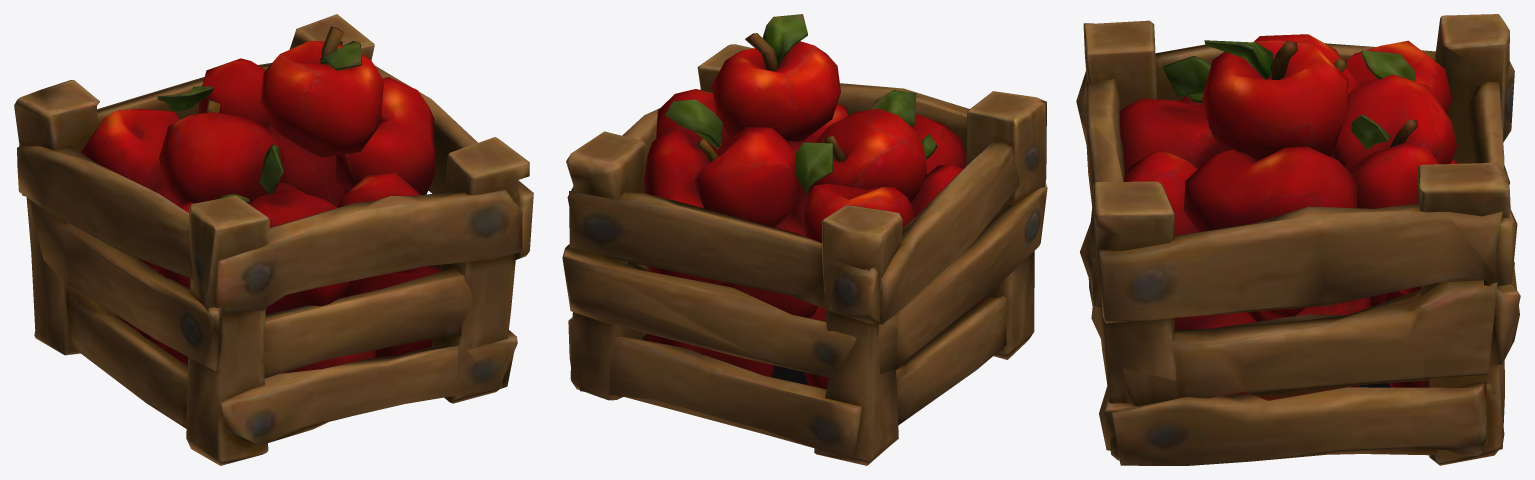
File: caisse_pommes.glb
The picture shows the model from 3 angles, left to right: view 1: azimuth 30°, elevation 25°; view 2: azimuth 150°, elevation 25°; view 3: azimuth 270°, elevation 25°; orthographic projection. The views are drawn at different scales.
Parts seen in each view (by area): view 1: geometry_0; view 2: geometry_0; view 3: geometry_0.
Boxes of the visible parts, x1,y1,x2,y2 form: geometry_0: [14, 14, 533, 465]; geometry_0: [562, 14, 1047, 465]; geometry_0: [1076, 14, 1520, 465].
Bounding box in the file's own units: 0.9614 × 0.8642 × 0.9297.
1 material, 1 textured.
